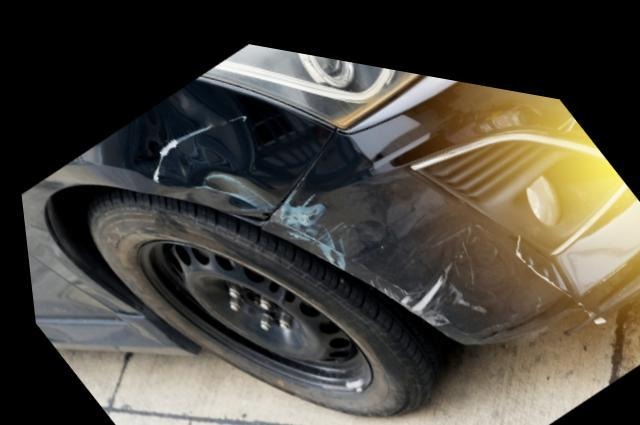dent: (93, 70, 329, 209)
scratch: (272, 179, 489, 311)
